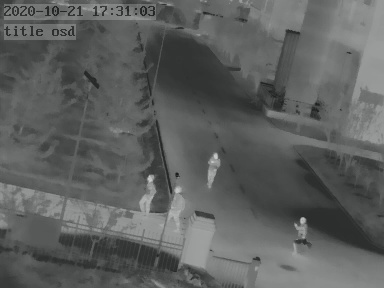person: (166, 184, 183, 226), (139, 173, 155, 216), (206, 149, 221, 187), (293, 214, 306, 252)
